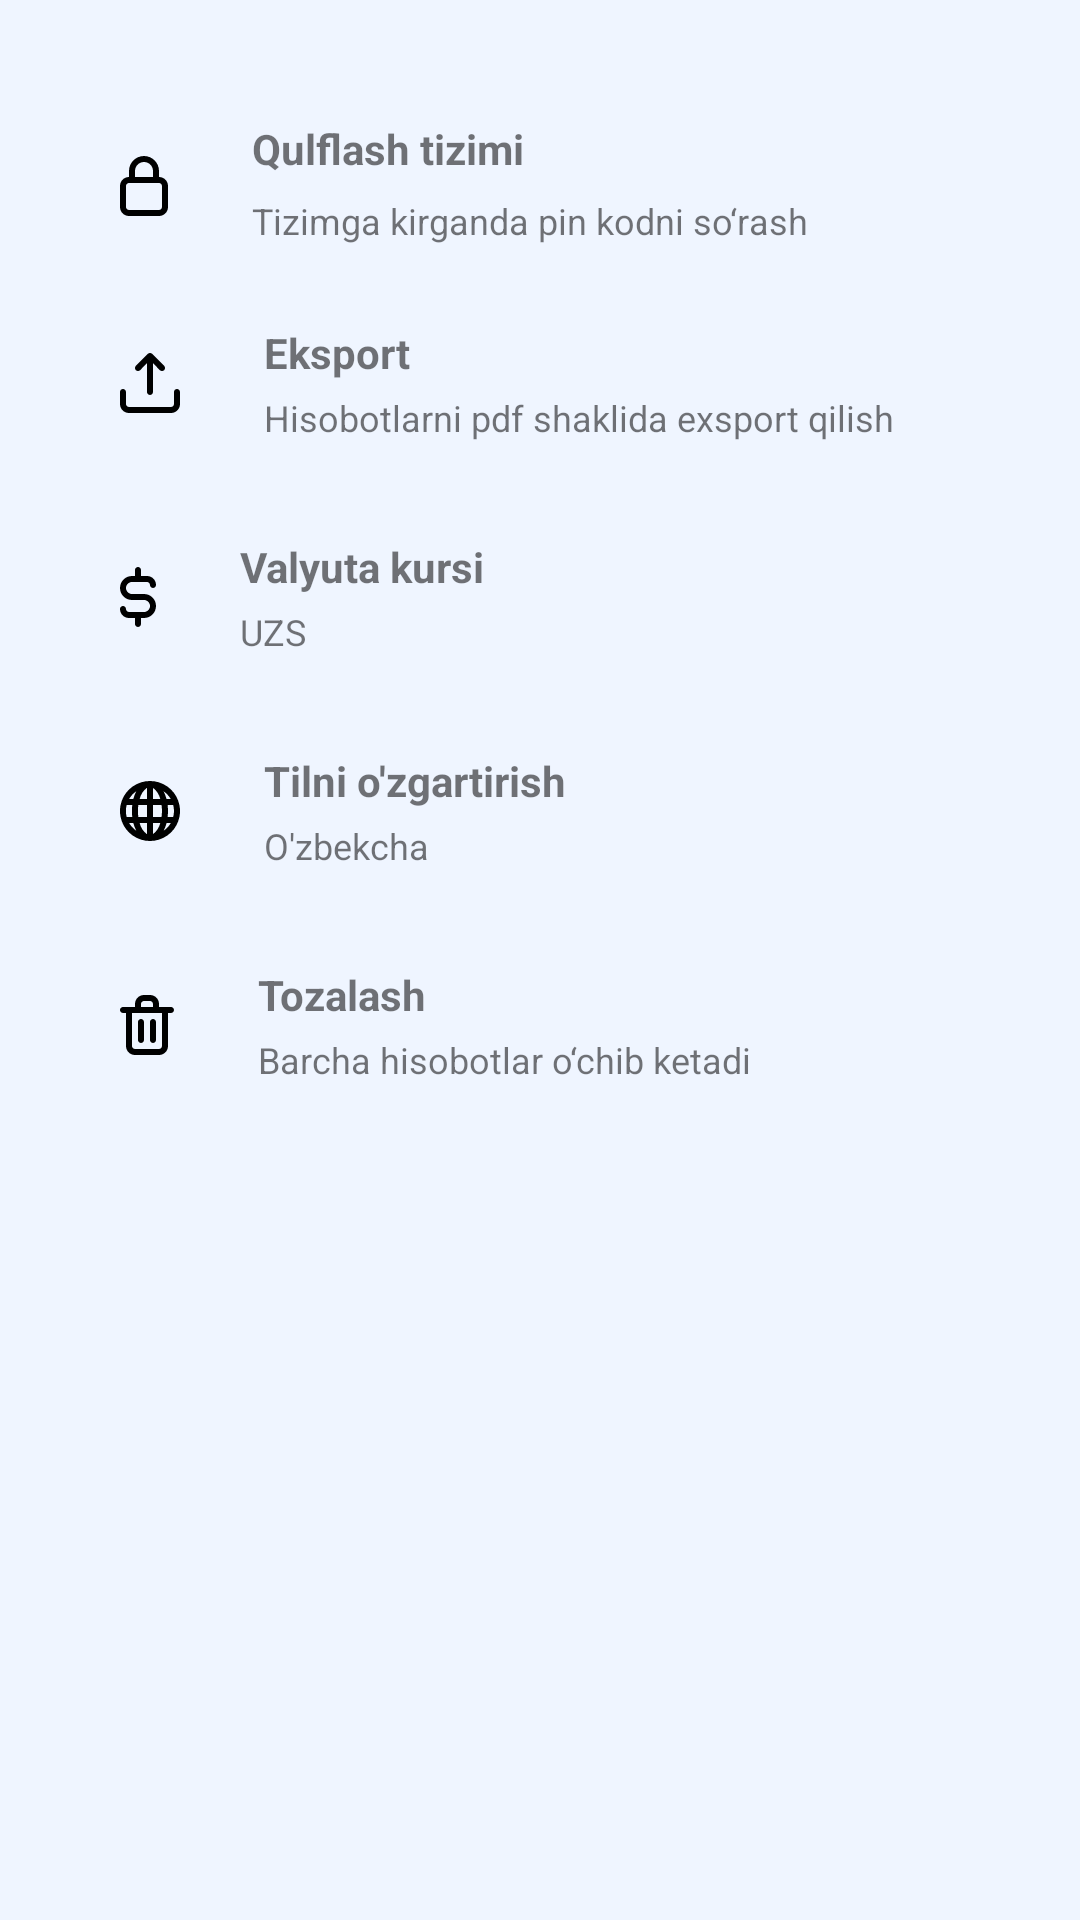

Screen size 1080px×1920px. Icon name, then its box in pixels as (x1=x1, y1=y1, x2=x2, y2=y2):
delete: (x1=120, y1=995, x2=174, y2=1055)
language: (x1=120, y1=781, x2=180, y2=841)
